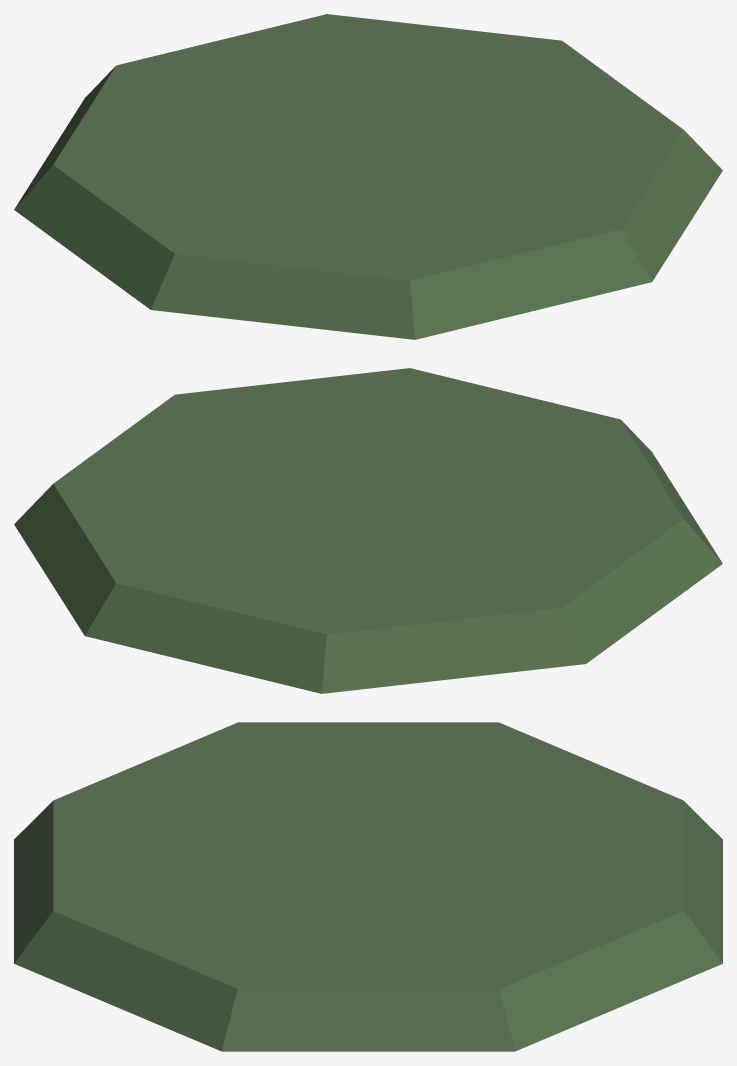
File: ground.fbx
The picture shows the model from 3 angles, top to bottom: view 1: azimuth 30°, elevation 25°; view 2: azimuth 150°, elevation 25°; view 3: azimuth 270°, elevation 25°; orthographic projection. The views are drawn at different scales.
Parts seen in each view (by area): view 1: pCylinder1; view 2: pCylinder1; view 3: pCylinder1.
Part boxes in pixels (x1,y1,x2,y2): pCylinder1: (14, 14, 722, 339); pCylinder1: (14, 368, 722, 693); pCylinder1: (14, 722, 722, 1051).
Size of the model in its own units: 14.39 by 1.03 by 14.39.
